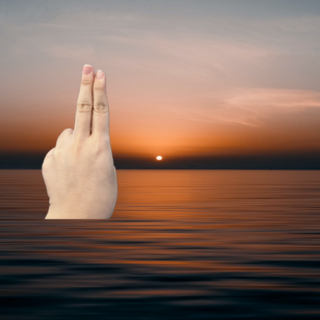DHAVE: (30, 58, 120, 215)
